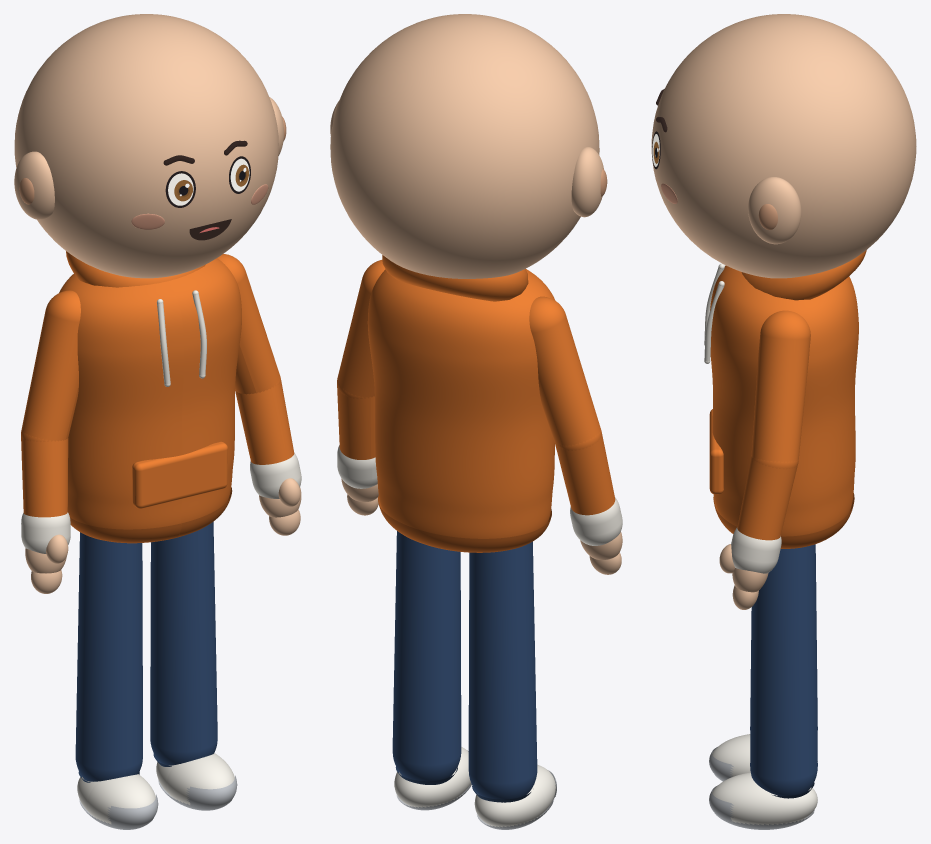
The model's file is hoofdpersonage_tiener.glb.
3 views of the same model, side by side, from view 1: azimuth 30°, elevation 25°; view 2: azimuth 150°, elevation 25°; view 3: azimuth 270°, elevation 25° (orthographic).
Visible parts, largest first — view 1: hoofdpersonage_tiener_hoofd, hoofdpersonage_tiener_romp, hoofdpersonage_tiener_been_R, hoofdpersonage_tiener_been_L, hoofdpersonage_tiener_bovenarm_R, hoofdpersonage_tiener_buidelzak, hoofdpersonage_tiener_bovenarm_L, hoofdpersonage_tiener_onderarm_R, hoofdpersonage_tiener_onderarm_L, hoofdpersonage_tiener_schoen_R, hoofdpersonage_tiener_schoen_L, hoofdpersonage_tiener_romp_boord (+12 smaller); view 2: hoofdpersonage_tiener_hoofd, hoofdpersonage_tiener_romp, hoofdpersonage_tiener_been_R, hoofdpersonage_tiener_been_L, hoofdpersonage_tiener_bovenarm_R, hoofdpersonage_tiener_onderarm_R, hoofdpersonage_tiener_bovenarm_L, hoofdpersonage_tiener_capuchon, hoofdpersonage_tiener_schoen_R, hoofdpersonage_tiener_onderarm_L, hoofdpersonage_tiener_romp_boord, hoofdpersonage_tiener_schoen_L (+4 smaller); view 3: hoofdpersonage_tiener_hoofd, hoofdpersonage_tiener_romp, hoofdpersonage_tiener_been_L, hoofdpersonage_tiener_bovenarm_L, hoofdpersonage_tiener_onderarm_L, hoofdpersonage_tiener_schoen_L, hoofdpersonage_tiener_oor_L, hoofdpersonage_tiener_capuchon, hoofdpersonage_tiener_manchet_L, hoofdpersonage_tiener_schoen_R, hoofdpersonage_tiener_romp_boord, hoofdpersonage_tiener_buidelzak (+1 smaller).
Boxes of the visible parts, left/top/right/bottom form: hoofdpersonage_tiener_hoofd: left=14, top=14, right=278, bottom=278; hoofdpersonage_tiener_romp: left=59, top=258, right=241, bottom=529; hoofdpersonage_tiener_been_R: left=75, top=532, right=142, bottom=781; hoofdpersonage_tiener_been_L: left=150, top=521, right=217, bottom=765; hoofdpersonage_tiener_bovenarm_R: left=21, top=290, right=80, bottom=441; hoofdpersonage_tiener_buidelzak: left=132, top=441, right=227, bottom=508; hoofdpersonage_tiener_bovenarm_L: left=217, top=254, right=279, bottom=394; hoofdpersonage_tiener_onderarm_R: left=21, top=432, right=68, bottom=517; hoofdpersonage_tiener_onderarm_L: left=235, top=380, right=294, bottom=464; hoofdpersonage_tiener_schoen_R: left=77, top=774, right=155, bottom=824; hoofdpersonage_tiener_schoen_L: left=156, top=753, right=234, bottom=804; hoofdpersonage_tiener_romp_boord: left=70, top=487, right=232, bottom=543; hoofdpersonage_tiener_hoofd: left=330, top=14, right=599, bottom=278; hoofdpersonage_tiener_romp: left=367, top=269, right=555, bottom=538; hoofdpersonage_tiener_been_R: left=468, top=541, right=537, bottom=799; hoofdpersonage_tiener_been_L: left=392, top=531, right=461, bottom=781; hoofdpersonage_tiener_bovenarm_R: left=529, top=296, right=600, bottom=450; hoofdpersonage_tiener_onderarm_R: left=555, top=432, right=615, bottom=515; hoofdpersonage_tiener_bovenarm_L: left=337, top=260, right=385, bottom=398; hoofdpersonage_tiener_capuchon: left=382, top=255, right=528, bottom=301; hoofdpersonage_tiener_schoen_R: left=474, top=764, right=555, bottom=827; hoofdpersonage_tiener_onderarm_L: left=337, top=386, right=375, bottom=459; hoofdpersonage_tiener_romp_boord: left=378, top=495, right=551, bottom=552; hoofdpersonage_tiener_schoen_L: left=394, top=747, right=470, bottom=807; hoofdpersonage_tiener_hoofd: left=651, top=14, right=916, bottom=278; hoofdpersonage_tiener_romp: left=710, top=265, right=858, bottom=536; hoofdpersonage_tiener_been_L: left=750, top=544, right=817, bottom=795; hoofdpersonage_tiener_bovenarm_L: left=751, top=310, right=810, bottom=468; hoofdpersonage_tiener_onderarm_L: left=737, top=456, right=797, bottom=540; hoofdpersonage_tiener_schoen_L: left=712, top=772, right=817, bottom=825; hoofdpersonage_tiener_oor_L: left=748, top=177, right=801, bottom=244; hoofdpersonage_tiener_capuchon: left=741, top=250, right=866, bottom=300; hoofdpersonage_tiener_manchet_L: left=731, top=527, right=781, bottom=573; hoofdpersonage_tiener_schoen_R: left=712, top=734, right=817, bottom=777; hoofdpersonage_tiener_romp_boord: left=713, top=493, right=854, bottom=548; hoofdpersonage_tiener_buidelzak: left=709, top=409, right=723, bottom=494.
Size of the model in its own units: 0.6739 by 1.83 by 0.564.
